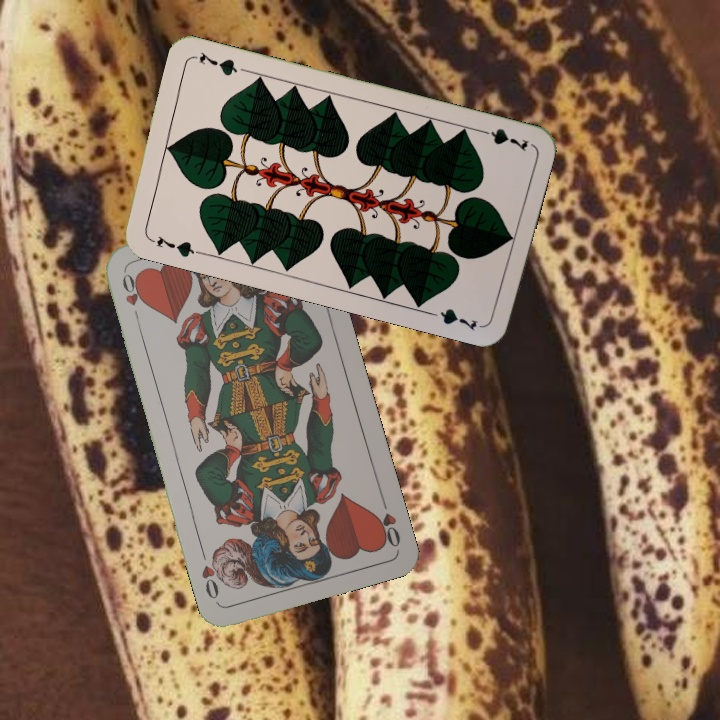G7: (473, 124, 532, 154), (145, 231, 203, 260)
HO: (372, 493, 403, 550), (118, 266, 143, 324)
